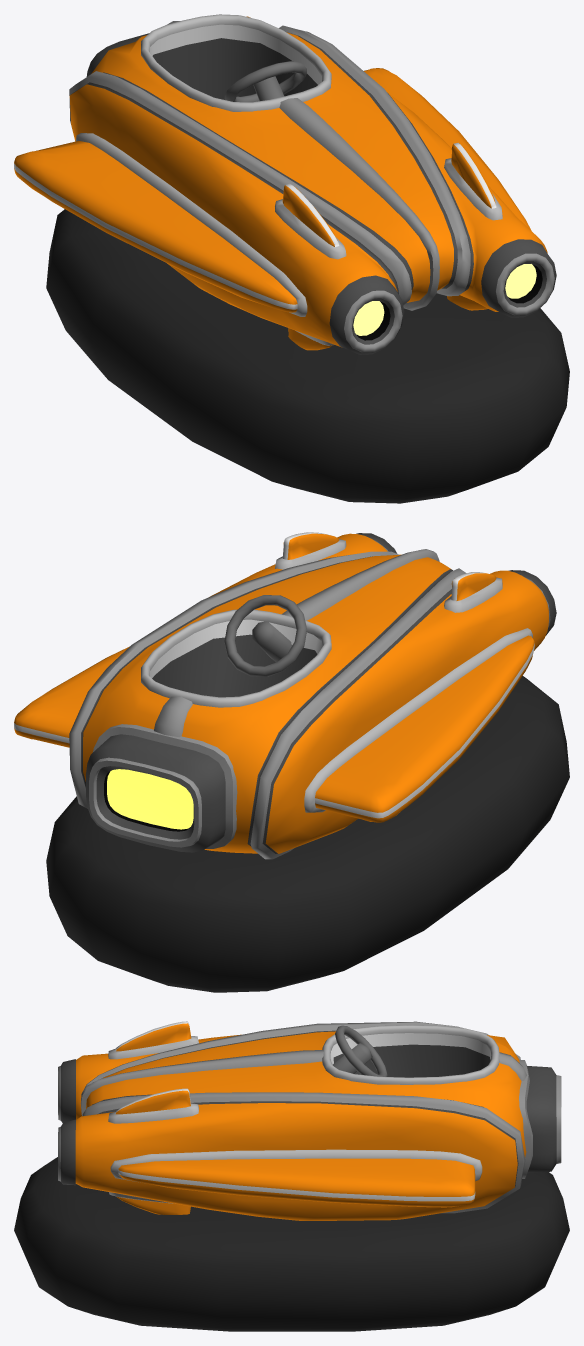
Rendered from mesh_Car_InGame_M.fbx.
The picture shows the model from 3 angles, top to bottom: view 1: azimuth 30°, elevation 25°; view 2: azimuth 150°, elevation 25°; view 3: azimuth 270°, elevation 25°; orthographic projection. The views are drawn at different scales.
Visible parts, largest first — view 1: mesh_Car_InGame_M; view 2: mesh_Car_InGame_M; view 3: mesh_Car_InGame_M.
Part boxes in pixels (x1,y1,x2,y2): mesh_Car_InGame_M: (14, 14, 569, 503); mesh_Car_InGame_M: (14, 532, 569, 992); mesh_Car_InGame_M: (14, 1021, 569, 1331).
Bounding box in the file's own units: 1.89 × 1.5 × 2.97.
